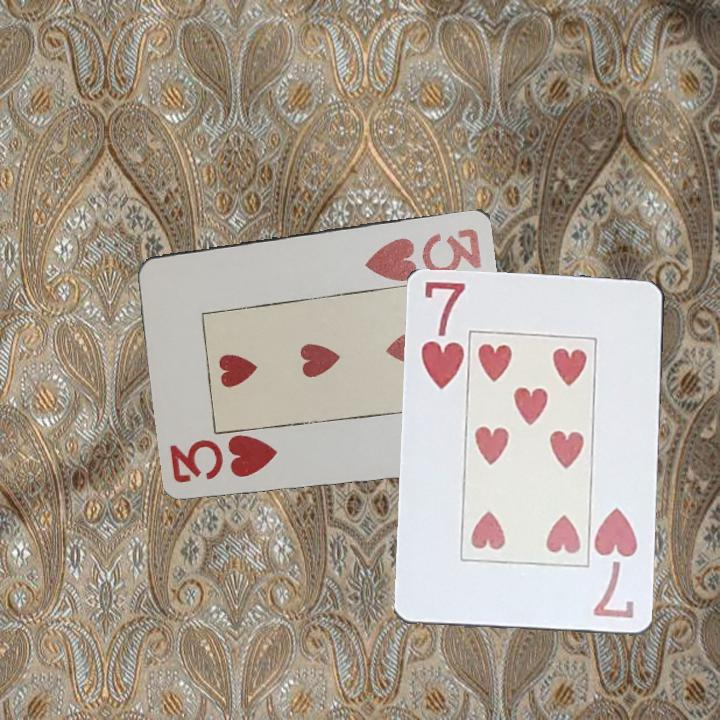3h: (361, 224, 485, 283), (167, 434, 281, 486)
7h: (590, 504, 641, 622), (418, 278, 469, 393)
